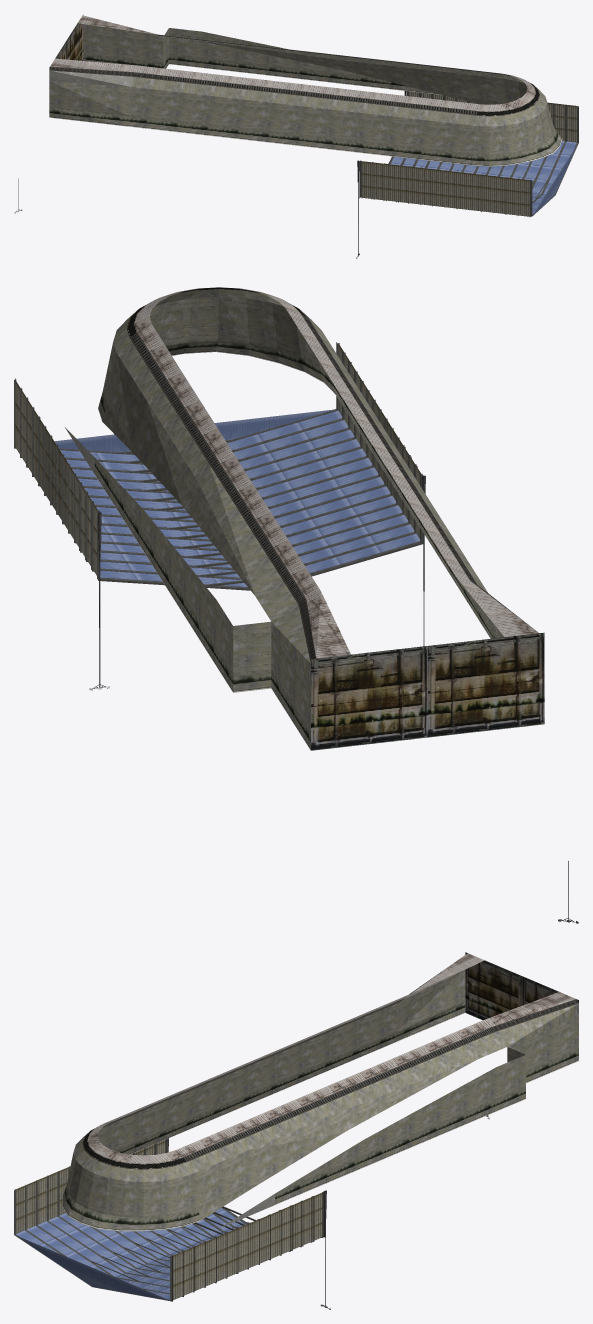
Rendered from airport_14_sfse01.obj.
The picture shows the model from 3 angles, top to bottom: view 1: azimuth 30°, elevation 25°; view 2: azimuth 150°, elevation 25°; view 3: azimuth 270°, elevation 25°; orthographic projection. The views are drawn at different scales.
Parts seen in each view (by area): view 1: Airport_14_SFSe01; view 2: Airport_14_SFSe01; view 3: Airport_14_SFSe01.
Part boxes in pixels (x1,y1,x2,y2): Airport_14_SFSe01: [14, 14, 578, 258]; Airport_14_SFSe01: [14, 287, 578, 923]; Airport_14_SFSe01: [14, 952, 578, 1309].
Size of the model in its own units: 135 by 43.16 by 124.
